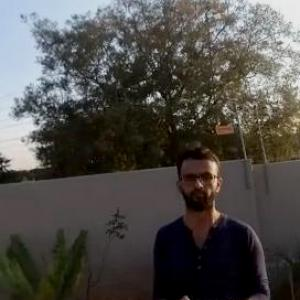follow: (150, 139, 277, 299)
